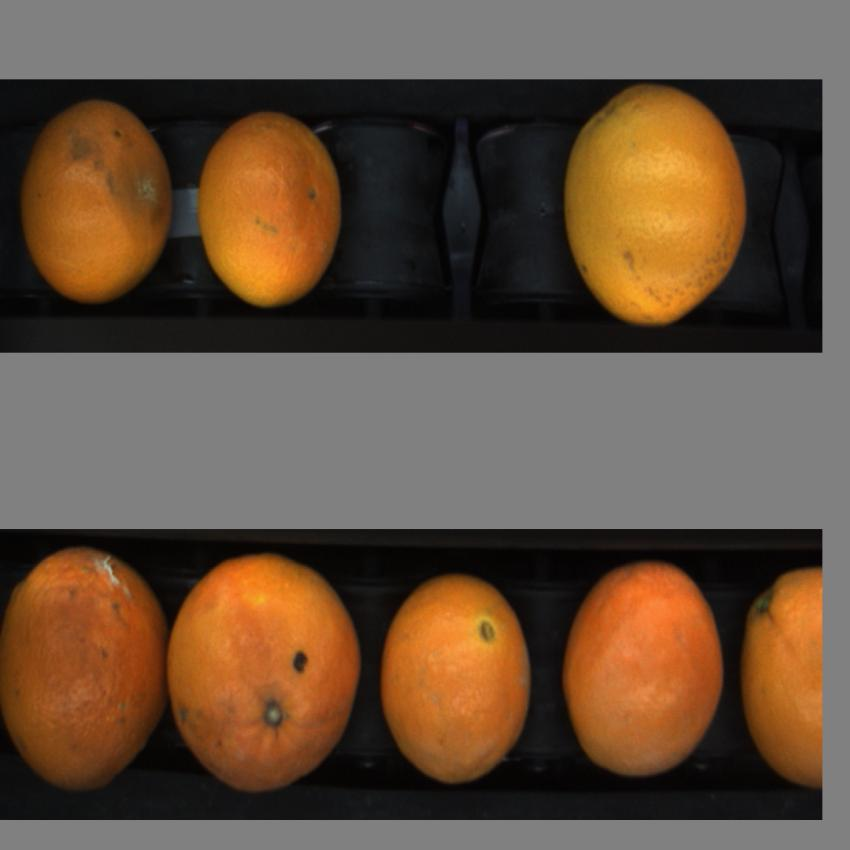Buen estado: (168, 547, 372, 796), (561, 90, 760, 332), (562, 550, 729, 805), (3, 542, 170, 796), (380, 554, 538, 810), (196, 109, 355, 318), (740, 564, 823, 794)
Mal estado: (22, 103, 178, 311)
